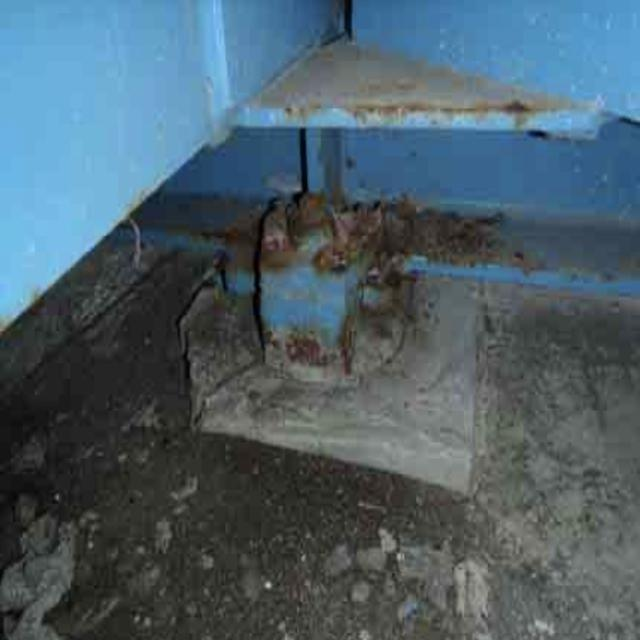corrosion: (218, 156, 496, 358)
